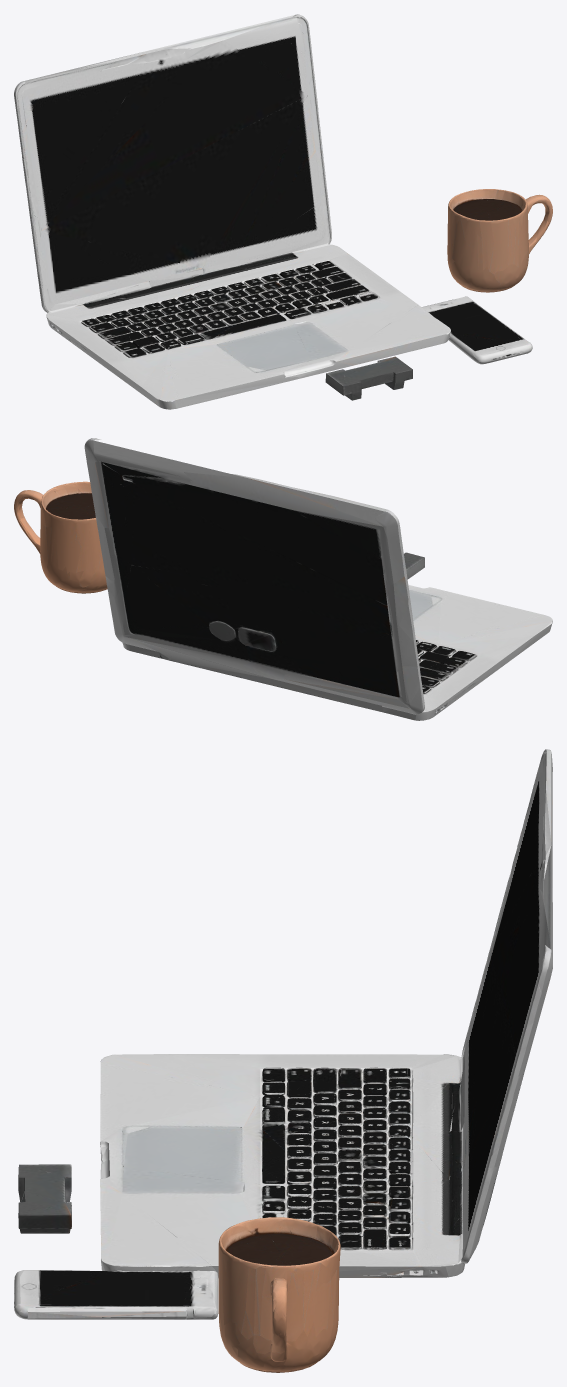
File: ws_ios.glb
The picture shows the model from 3 angles, top to bottom: view 1: azimuth 30°, elevation 25°; view 2: azimuth 150°, elevation 25°; view 3: azimuth 270°, elevation 25°; orthographic projection. The views are drawn at different scales.
Size of the model in its own units: 1.9 by 0.9192 by 1.33.
1 material, 1 textured.
